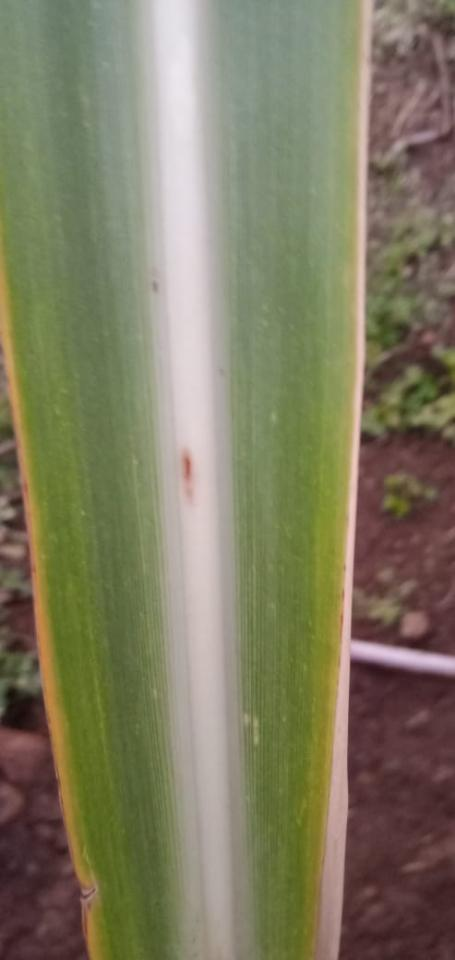RedRot: (176, 450, 197, 505)
Yellow: (13, 291, 172, 959), (0, 246, 103, 959), (300, 419, 353, 959), (345, 1, 364, 422), (147, 276, 163, 295)
